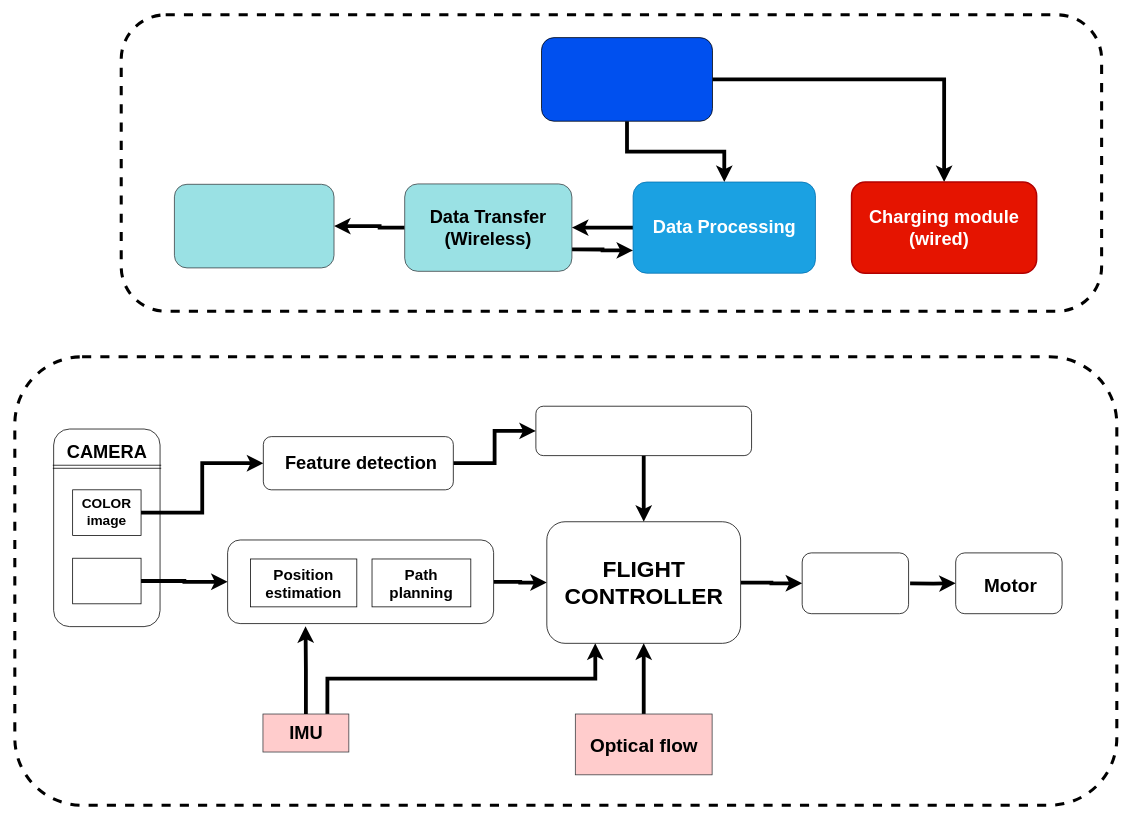
Some shapes in this 1131 by 819 pixel diagram are drawn without their labels. The shapes that lost their labels are listed below. From the top down, each one's box as (x1, y1, x2, y2) in pixels, then its label:
(541, 37, 712, 121): BASE
(174, 184, 334, 268): Drone
(535, 405, 752, 456): Return to base
(72, 557, 141, 604): Grayscale image
(801, 552, 909, 614): ESC
